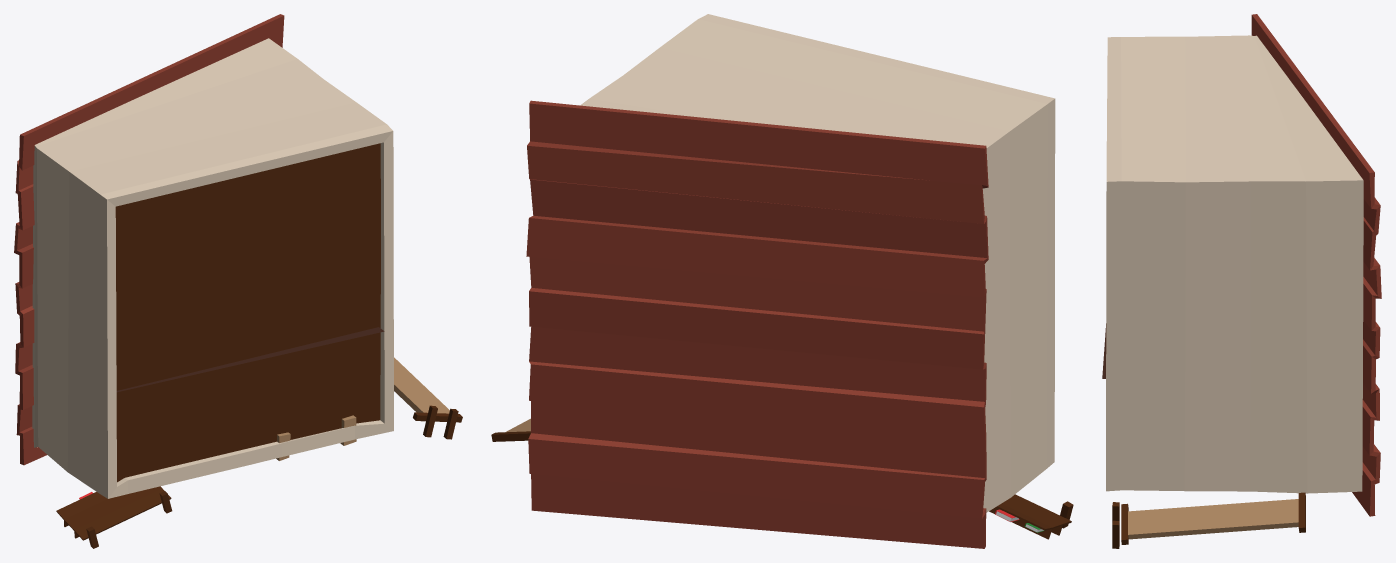
The model's file is Library.fbx.
The picture shows the model from 3 angles, left to right: view 1: azimuth 30°, elevation 25°; view 2: azimuth 150°, elevation 25°; view 3: azimuth 270°, elevation 25°; orthographic projection. The views are drawn at different scales.
Parts seen in each view (by area): view 1: Cube.001; view 2: Cube.001; view 3: Cube.001.
Boxes of the visible parts, x1,y1,x2,y2 form: Cube.001: [14, 14, 462, 548]; Cube.001: [491, 14, 1073, 548]; Cube.001: [1102, 14, 1381, 548].
Size of the model in its own units: 108 by 96.37 by 64.96.
